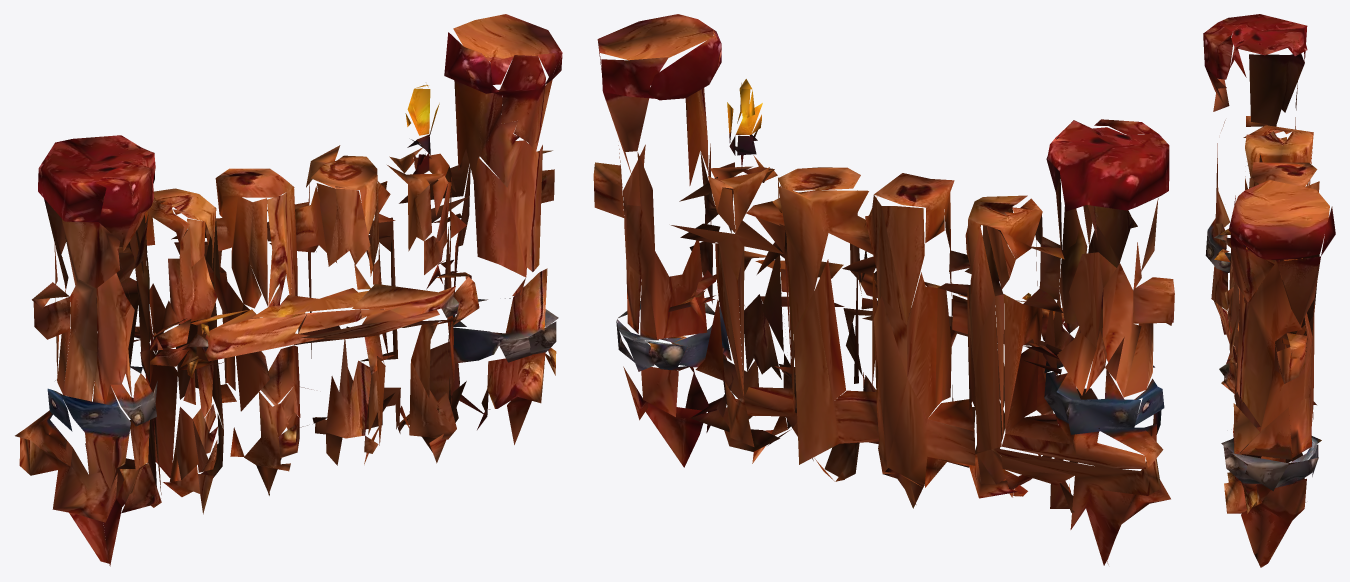
The model's file is tripo-palicada154-lod.glb.
The picture shows the model from 3 angles, left to right: view 1: azimuth 30°, elevation 25°; view 2: azimuth 150°, elevation 25°; view 3: azimuth 270°, elevation 25°; orthographic projection. The views are drawn at different scales.
Visible parts, largest first — view 1: tripo_node_33bf973a-4d6e-414c-ba71-18f77c98eadc; view 2: tripo_node_33bf973a-4d6e-414c-ba71-18f77c98eadc; view 3: tripo_node_33bf973a-4d6e-414c-ba71-18f77c98eadc.
Part boxes in pixels (x1,y1,x2,y2): tripo_node_33bf973a-4d6e-414c-ba71-18f77c98eadc: (15, 14, 562, 566); tripo_node_33bf973a-4d6e-414c-ba71-18f77c98eadc: (593, 14, 1174, 565); tripo_node_33bf973a-4d6e-414c-ba71-18f77c98eadc: (1203, 14, 1335, 567).
Size of the model in its own units: 0.9844 by 0.7415 by 0.2369.
Materials: 1 (1 with a texture image).
